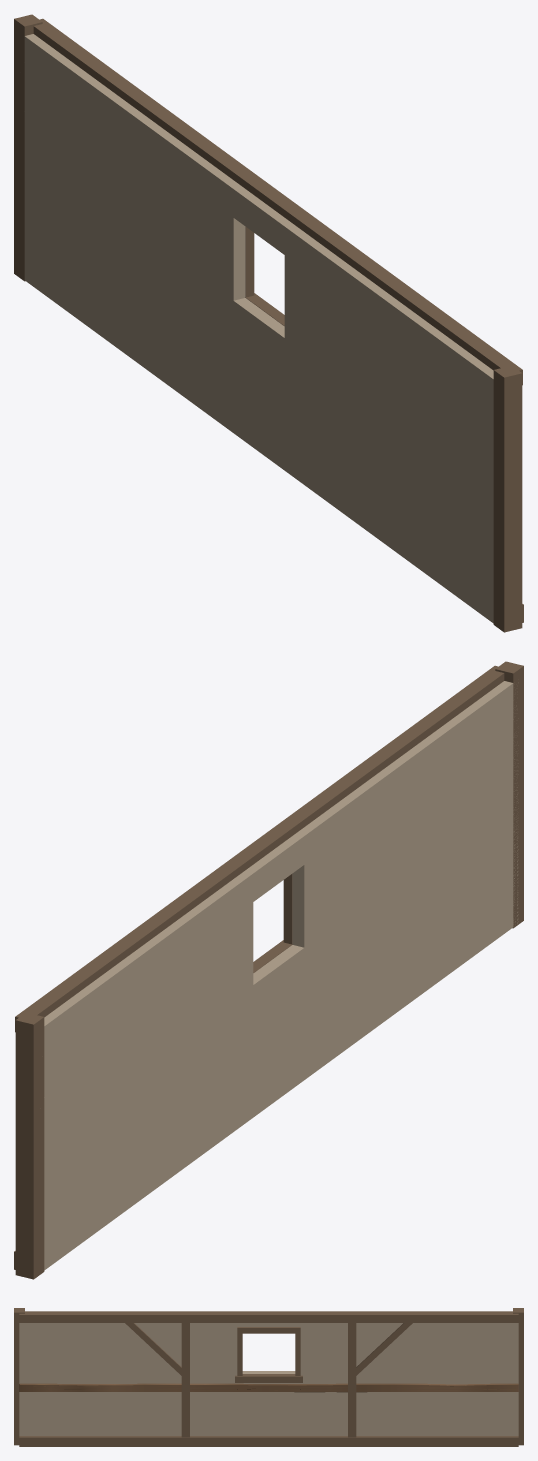
File: beam_C.glb
The picture shows the model from 3 angles, top to bottom: view 1: azimuth 30°, elevation 25°; view 2: azimuth 150°, elevation 25°; view 3: azimuth 270°, elevation 25°; orthographic projection. The views are drawn at different scales.
Visible parts, largest first — view 1: MOD01_Bay_3_Infill, MOD01_Bay_1_Infill, MOD01_Bay_2_Infill, 08A_SideWallPlate.006, 08A_CornerPost.012, 08A_CornerPost.013; view 2: MOD01_Bay_1_Infill, MOD01_Bay_3_Infill, MOD01_Bay_2_Infill, 08A_SideWallPlate.006, 08A_CornerPost.013, 08A_CornerPost.012; view 3: MOD01_Bay_3_Infill, MOD01_Bay_1_Infill, MOD01_Bay_2_Infill, 08A_SideWallPlate.006, ART01_SideSill, ART01_MidRail, ART01_IntermediatePost_1, ART01_IntermediatePost_2, 08A_CornerPost.012, 08A_CornerPost.013, MOD01_Bay_2_sill, ART01_KneeBrace_1 (+4 smaller).
Boxes of the visible parts, left/top/right/bottom form: MOD01_Bay_3_Infill: left=24, top=34, right=187, bottom=392; MOD01_Bay_1_Infill: left=339, top=264, right=493, bottom=623; MOD01_Bay_2_Infill: left=179, top=147, right=347, bottom=509; 08A_SideWallPlate.006: left=33, top=18, right=522, bottom=385; 08A_CornerPost.012: left=493, top=365, right=522, bottom=632; 08A_CornerPost.013: left=14, top=14, right=42, bottom=281; MOD01_Bay_1_Infill: left=350, top=681, right=518, bottom=1039; MOD01_Bay_3_Infill: left=44, top=911, right=198, bottom=1270; MOD01_Bay_2_Infill: left=190, top=794, right=358, bottom=1156; 08A_SideWallPlate.006: left=15, top=665, right=504, bottom=1032; 08A_CornerPost.013: left=15, top=1012, right=44, bottom=1279; 08A_CornerPost.012: left=495, top=661, right=523, bottom=928; MOD01_Bay_3_Infill: left=356, top=1323, right=518, bottom=1435; MOD01_Bay_1_Infill: left=19, top=1323, right=181, bottom=1435; MOD01_Bay_2_Infill: left=190, top=1323, right=347, bottom=1435; 08A_SideWallPlate.006: left=19, top=1311, right=518, bottom=1322; ART01_SideSill: left=19, top=1436, right=518, bottom=1446; ART01_MidRail: left=19, top=1383, right=518, bottom=1392; ART01_IntermediatePost_1: left=181, top=1323, right=189, bottom=1437; ART01_IntermediatePost_2: left=348, top=1323, right=356, bottom=1437; 08A_CornerPost.012: left=14, top=1308, right=24, bottom=1445; 08A_CornerPost.013: left=513, top=1308, right=523, bottom=1445; MOD01_Bay_2_sill: left=235, top=1374, right=302, bottom=1382; ART01_KneeBrace_1: left=125, top=1323, right=181, bottom=1375.
Size of the model in its own units: 0.22 by 2.14 by 7.46.
Materials: 3 (1 with a texture image).
